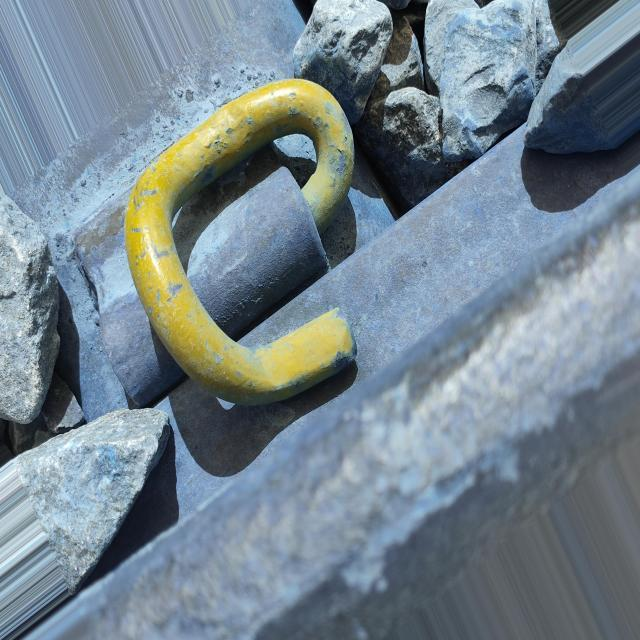Good Fasteners: (15, 0, 419, 476)
